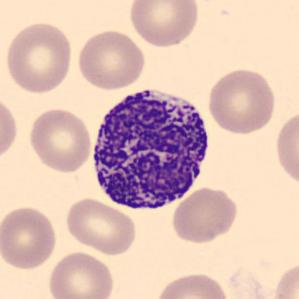Basophil: (85, 79, 216, 216)
RBC: (3, 20, 75, 95), (205, 66, 279, 136), (27, 105, 94, 174), (75, 28, 147, 92), (63, 196, 139, 256), (170, 185, 240, 245), (0, 204, 59, 271), (126, 0, 201, 49), (46, 249, 116, 299), (153, 270, 230, 299), (273, 107, 298, 189), (0, 94, 20, 165), (270, 259, 299, 298)
